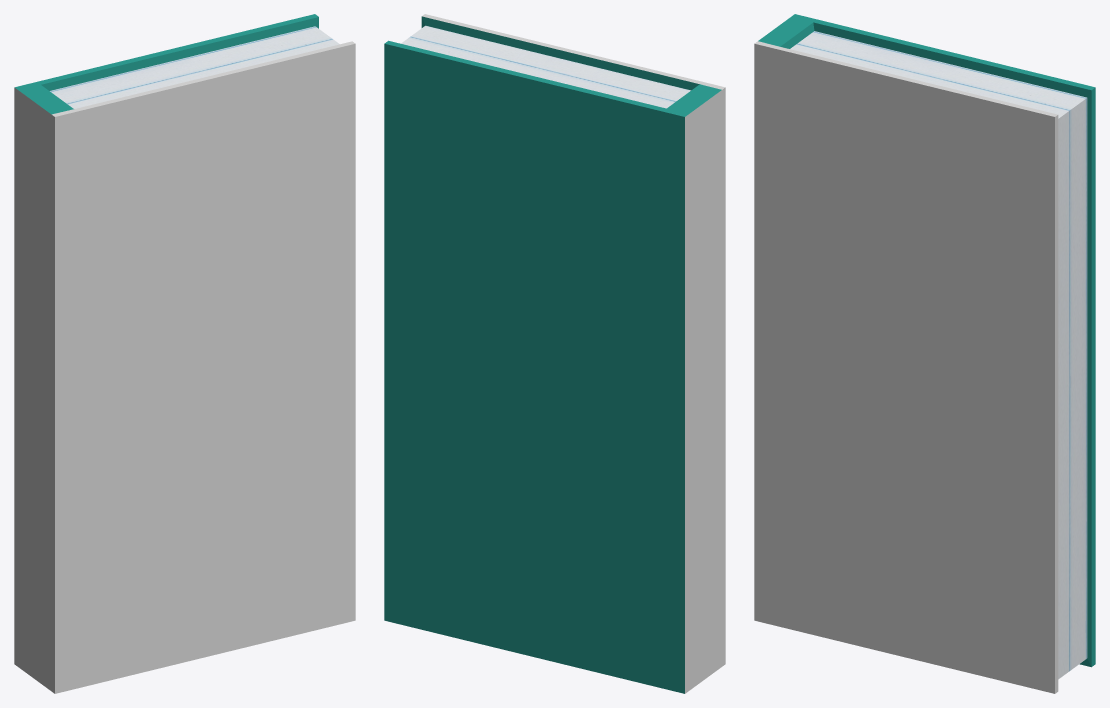
The model's file is book1.fbx.
3 renders of one model, left to right at view 1: azimuth 30°, elevation 25°; view 2: azimuth 150°, elevation 25°; view 3: azimuth 330°, elevation 25°, orthographic.
Parts seen in each view (by area): view 1: Book.001; view 2: Book.001; view 3: Book.001.
Boxes of the visible parts, box(x1,y1,x2,y2) form: Book.001: box(14, 14, 355, 693); Book.001: box(384, 14, 725, 693); Book.001: box(754, 14, 1095, 693).
Size of the model in its own units: 109 by 200 by 25.48.
3 materials, 1 textured.
